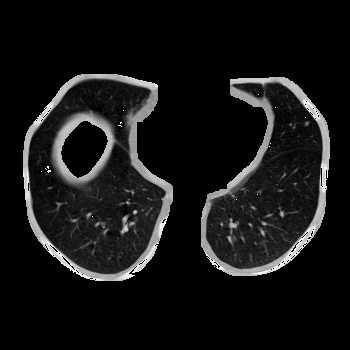PN: (304, 121, 308, 125)
